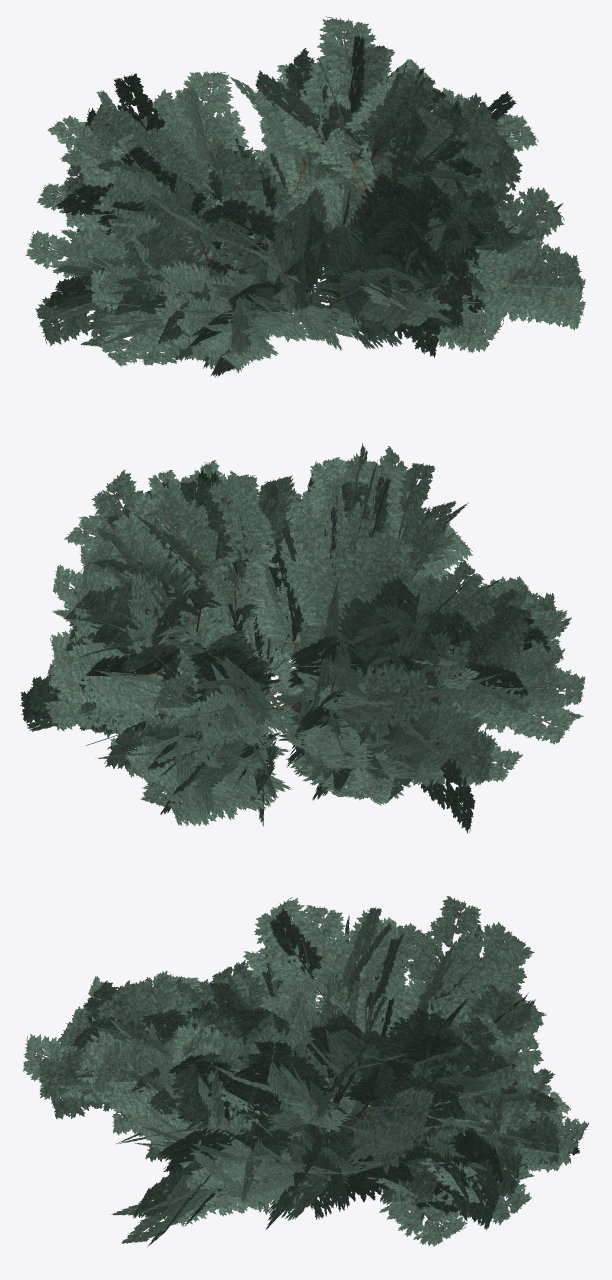
The model's file is juniper_low_v01_LOD1.fbx.
The picture shows the model from 3 angles, top to bottom: view 1: azimuth 30°, elevation 25°; view 2: azimuth 150°, elevation 25°; view 3: azimuth 270°, elevation 25°; orthographic projection. The views are drawn at different scales.
Visible parts, largest first — view 1: juniper_low_v01_LOD1; view 2: juniper_low_v01_LOD1; view 3: juniper_low_v01_LOD1.
Part boxes in pixels (x1=…): juniper_low_v01_LOD1: x1=26, y1=16, x2=585, y2=377; juniper_low_v01_LOD1: x1=20, y1=443, x2=585, y2=833; juniper_low_v01_LOD1: x1=23, y1=896, x2=588, y2=1247.
Size of the model in its own units: 144 by 80 by 151.
Materials: 2 (2 with a texture image).
